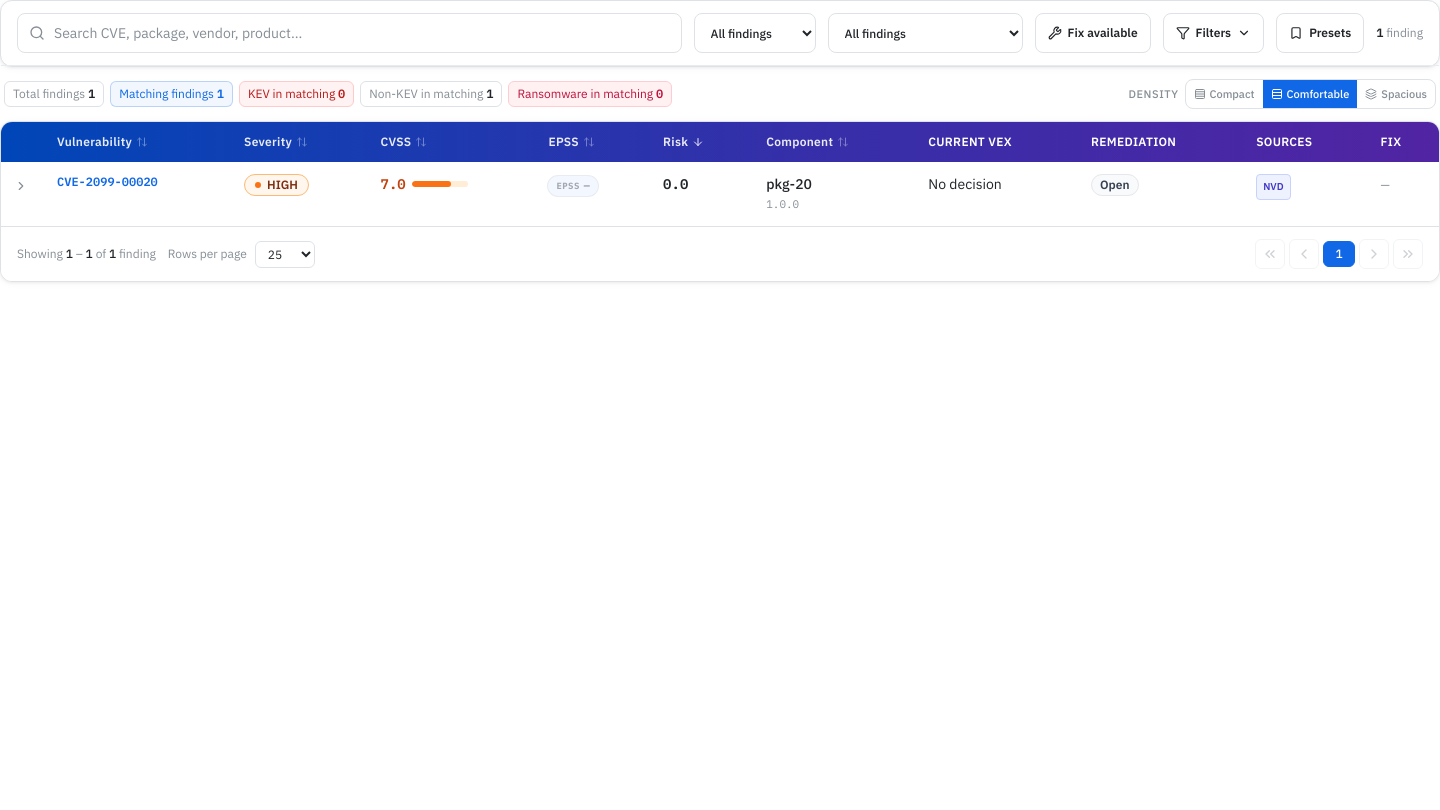
Test: FindingsTable — strategy-filter options › renders an empty-state placeholder when no findings carry a strategy
Click the button "Filters" at (1213, 33), box [1163,13,1264,53]
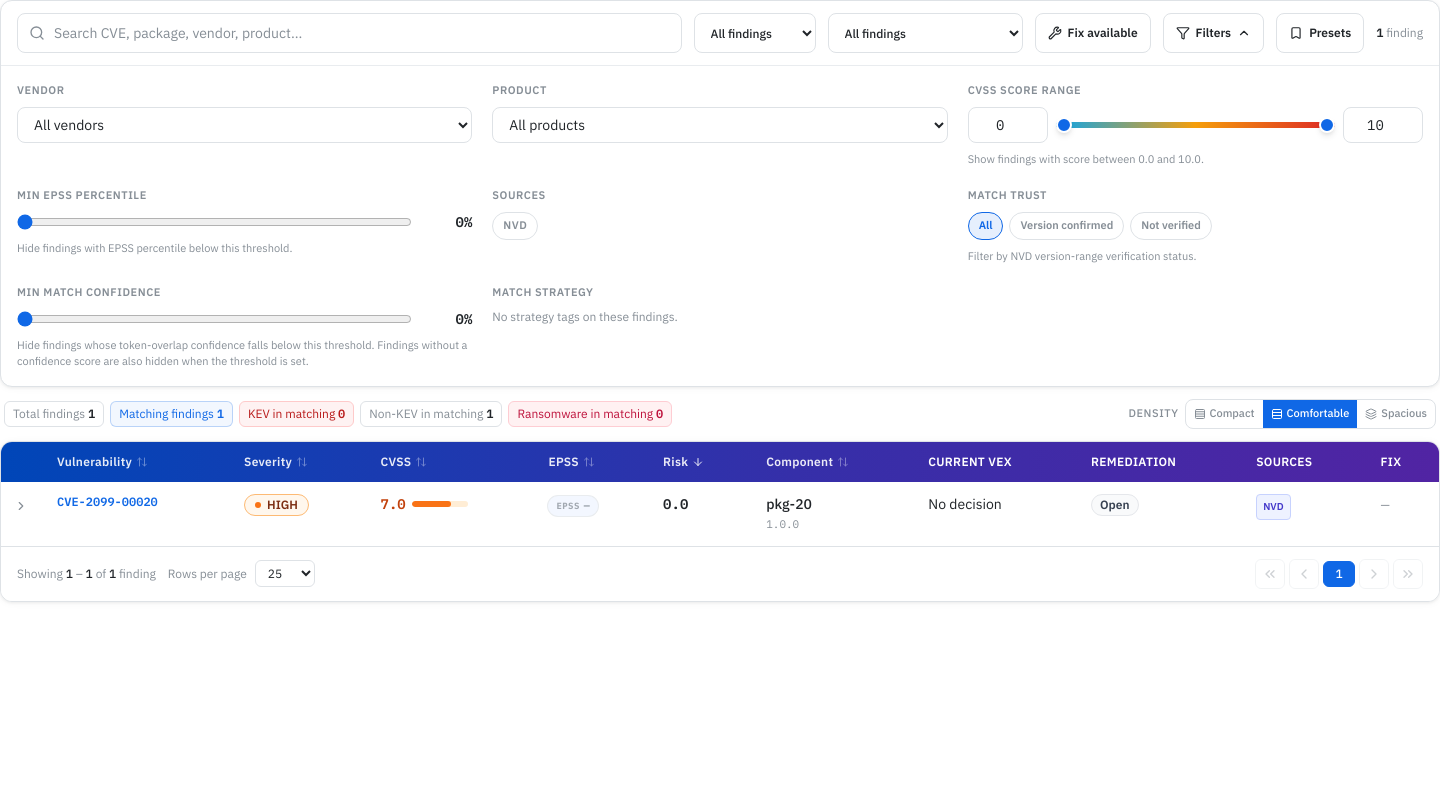
Expected: the text "No strategy tags on these findings." is shown, [492,308,678,324]
